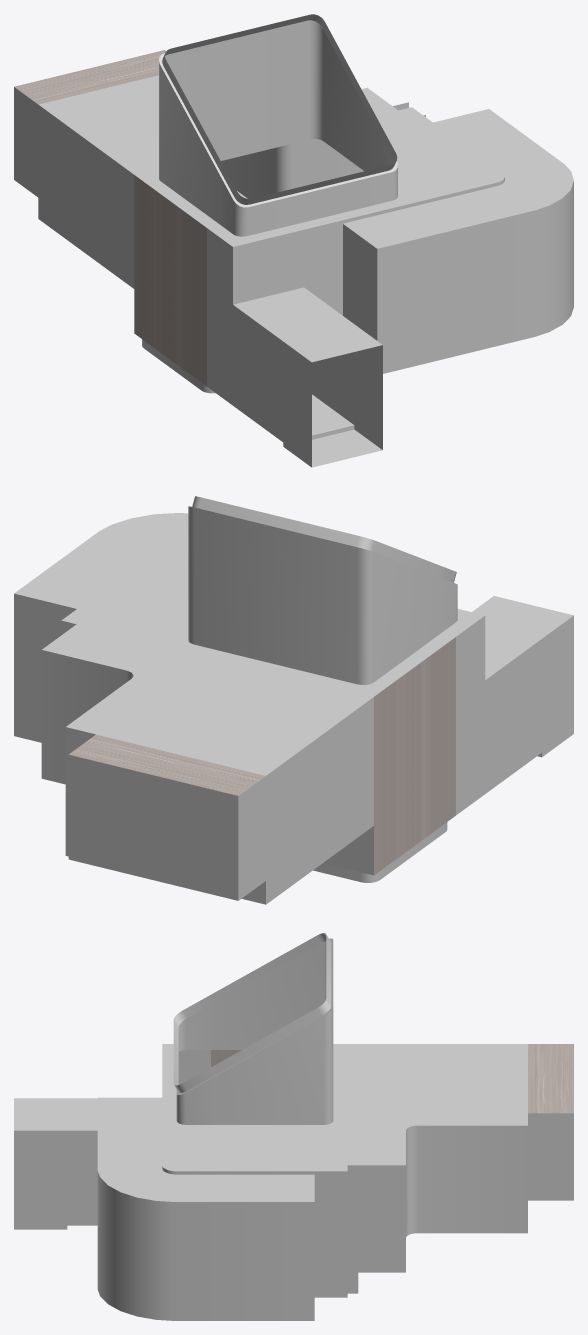
File: N-House-11-BaseCollider.fbx
3 views of the same model, one above another, from view 1: azimuth 30°, elevation 25°; view 2: azimuth 150°, elevation 25°; view 3: azimuth 270°, elevation 25° (orthographic). The views are drawn at different scales.
Parts seen in each view (by area): view 1: BaseCollider; view 2: BaseCollider; view 3: BaseCollider.
Part boxes in pixels (x1,y1,x2,y2): BaseCollider: (14,14,573,467); BaseCollider: (14,496,573,904); BaseCollider: (14,933,573,1320).
Bounding box in the file's own units: 782 × 659 × 1197.
